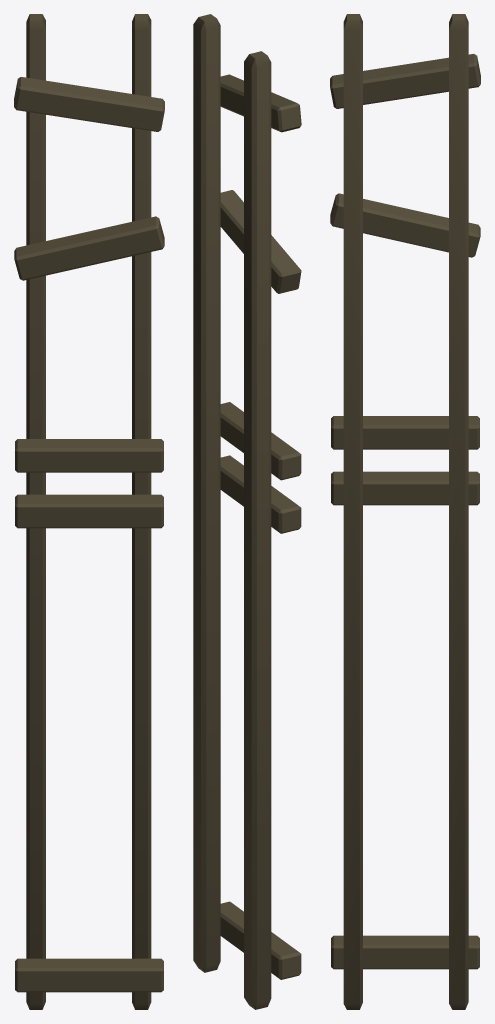
File: escalera_01.fbx
3 views of the same model, side by side, from view 1: azimuth 90°, elevation 25°; view 2: azimuth 210°, elevation 25°; view 3: azimuth 270°, elevation 25° (orthographic). The views are drawn at different scales.
Visible parts, largest first — view 1: escalera_01; view 2: escalera_01; view 3: escalera_01.
Boxes of the visible parts, x1,y1,x2,y2 form: escalera_01: (14,14,164,1009); escalera_01: (193,14,301,1009); escalera_01: (330,14,480,1009).
Size of the model in its own units: 23.56 by 490 by 67.56.
